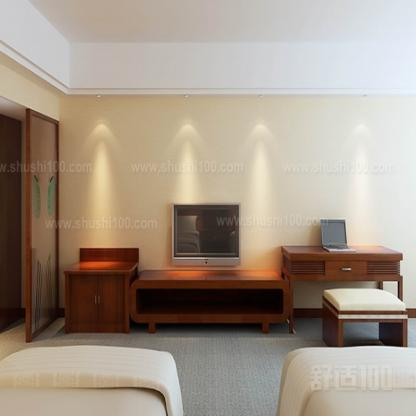TV stand: (132, 266, 289, 337)
